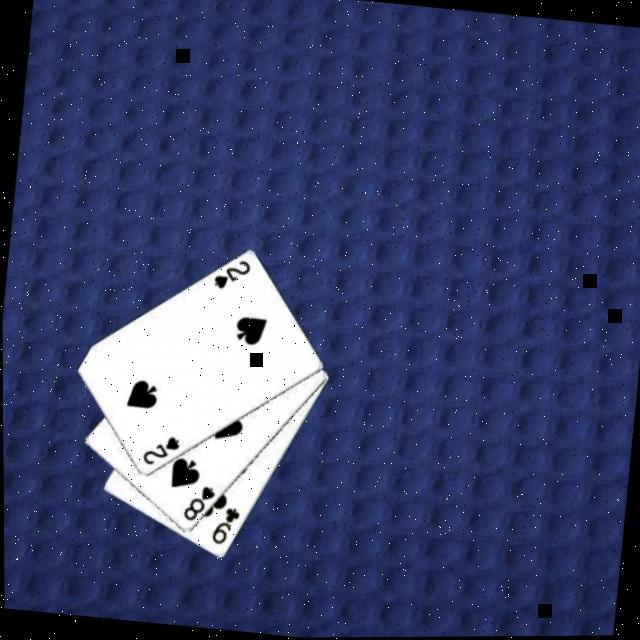2S: (135, 431, 181, 472), (207, 257, 251, 297)
8S: (176, 482, 215, 527)
9C: (204, 504, 239, 551)
